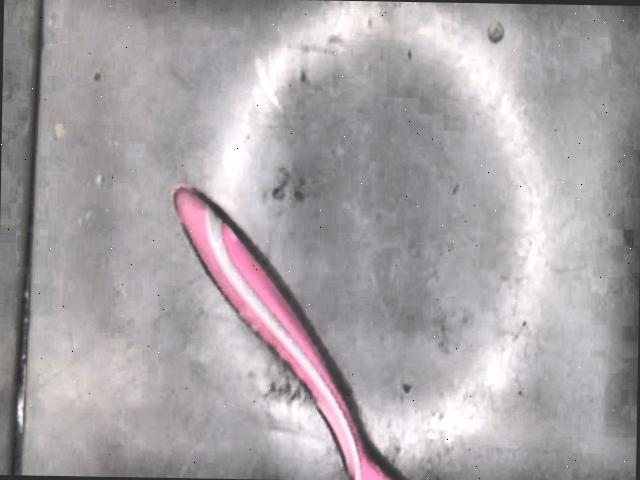Plastic: (173, 186, 398, 480)
